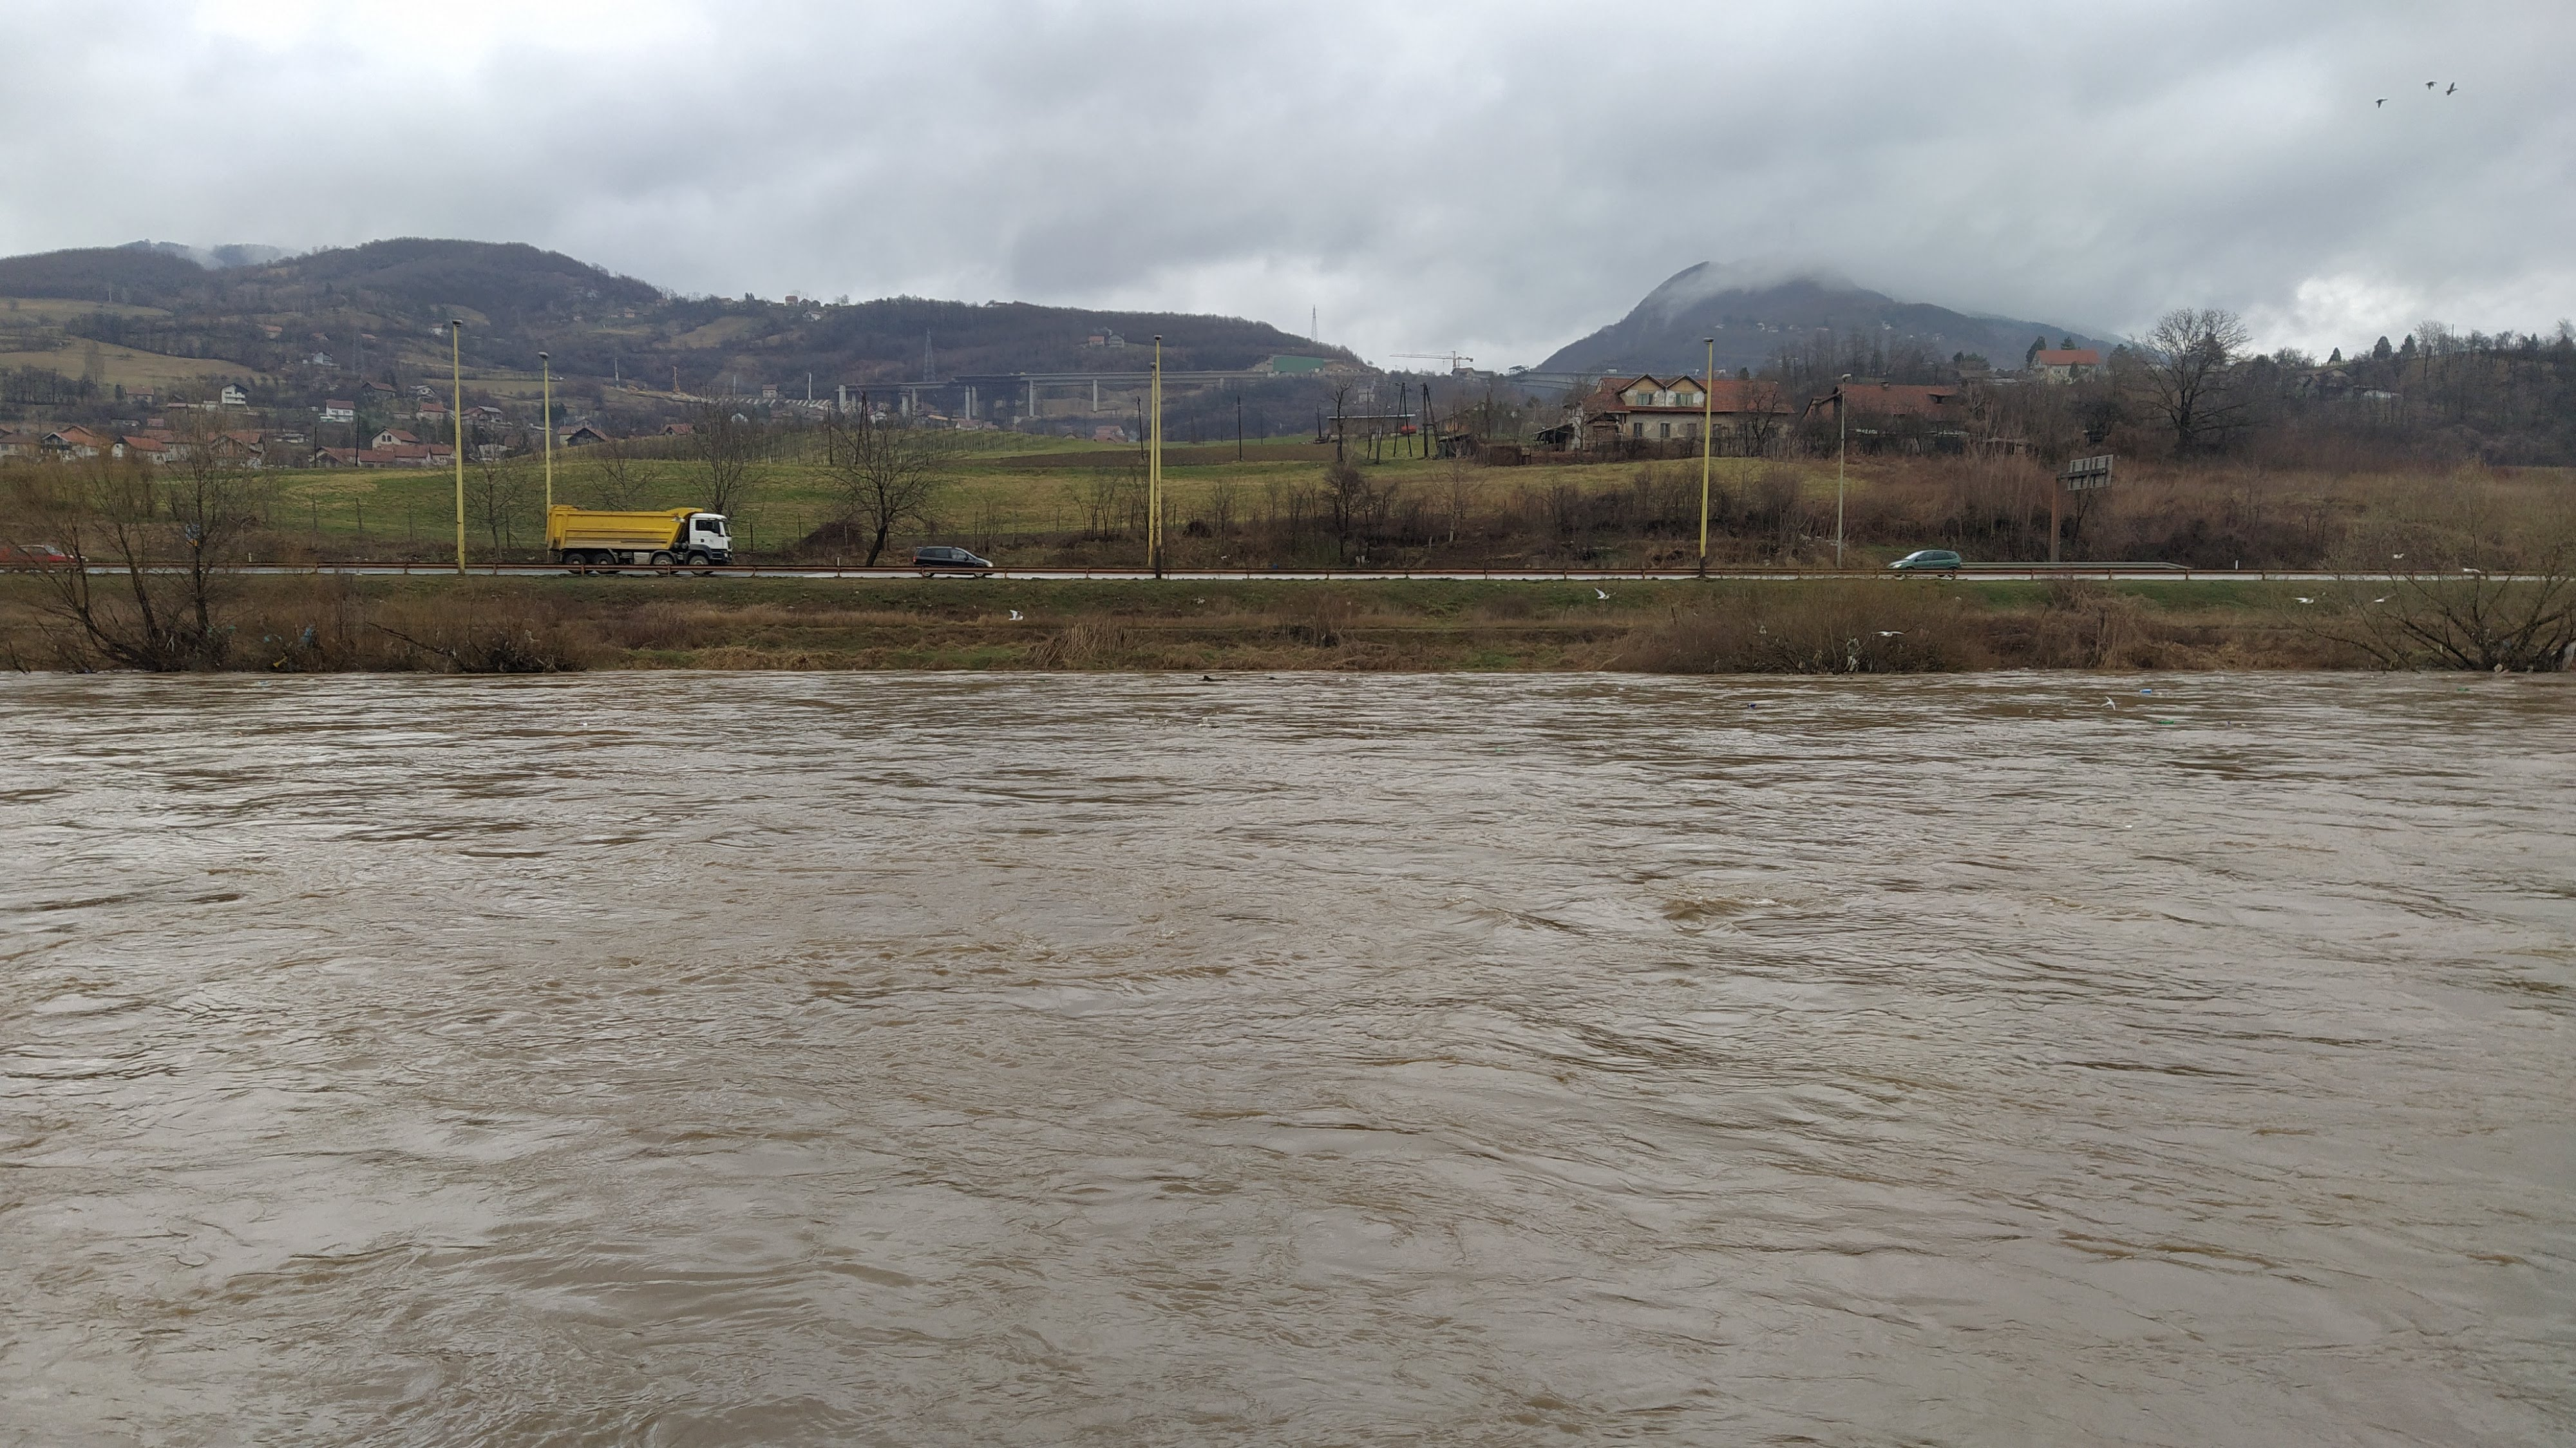Plastic Bottle: (1339, 678, 1355, 685), (2160, 719, 2173, 724), (2141, 689, 2151, 692), (1495, 747, 1504, 751), (2457, 687, 2466, 690), (1748, 703, 1755, 706), (260, 682, 267, 683)
